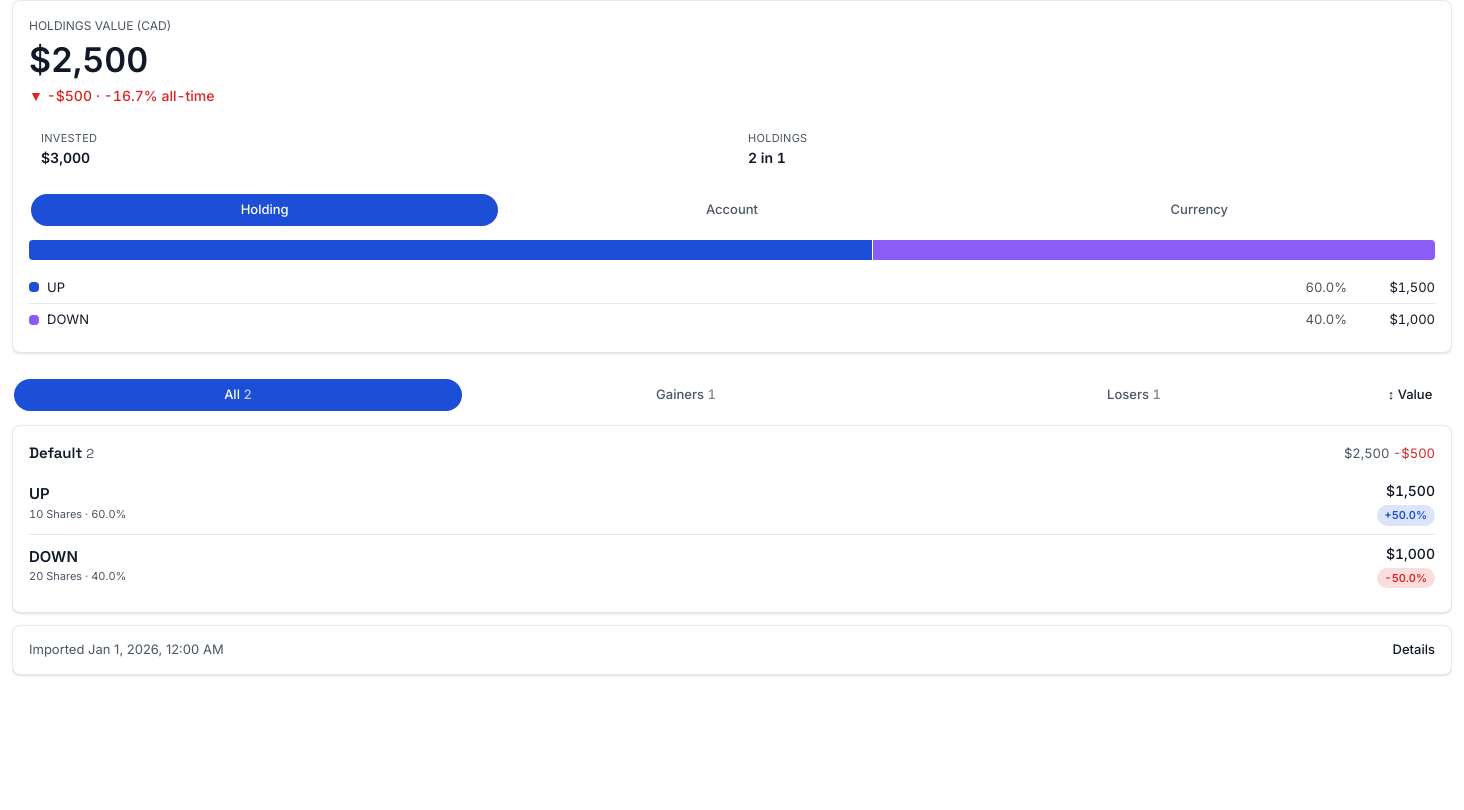
Test: phone Portfolio › expands a row to show price, average cost and book
The image size is (1464, 810).
Click the button with aria-label "Details for UP": (64,514) left=29, top=472, right=1435, bottom=534
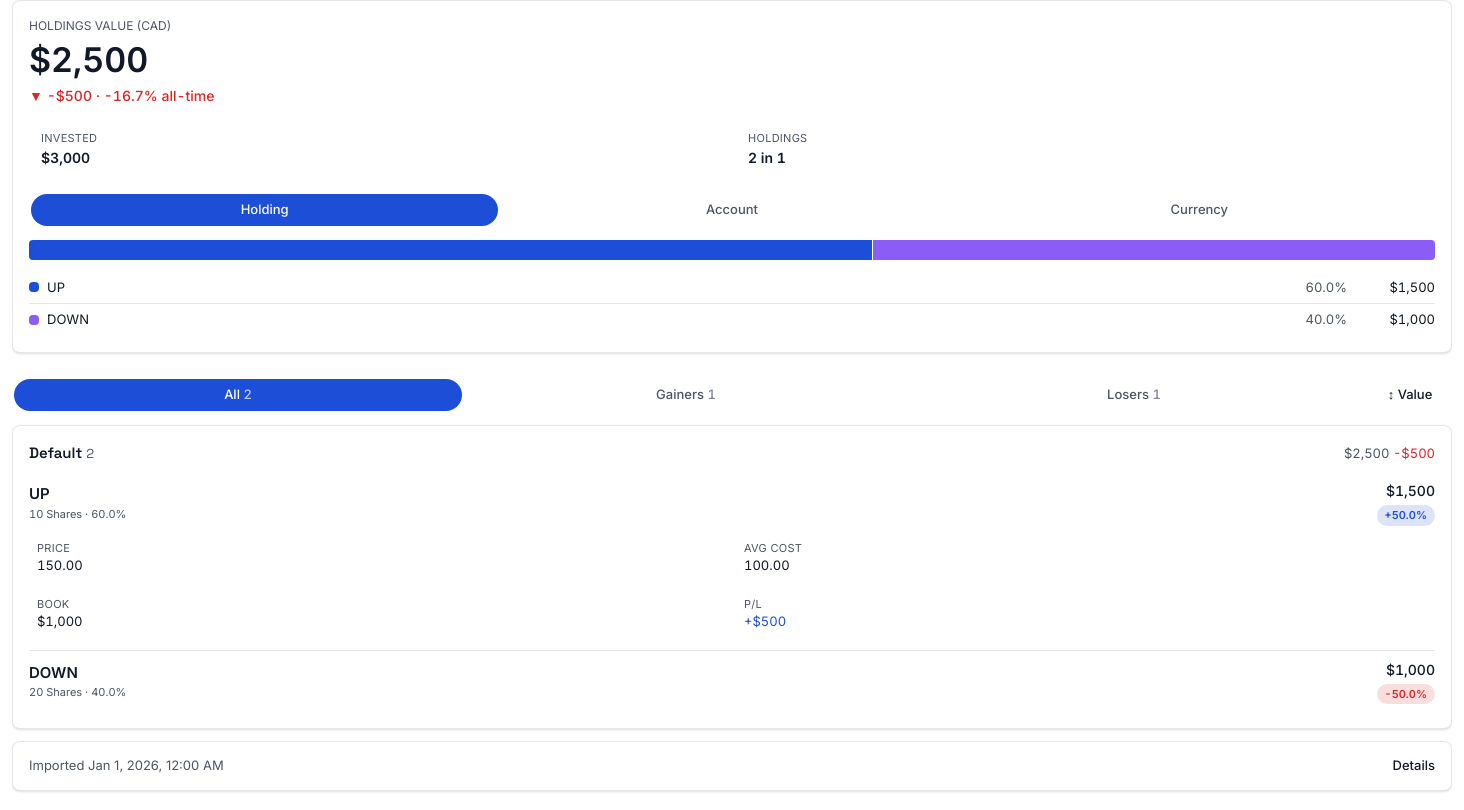
Result: the text "Avg cost" is shown at left=744, top=540, right=802, bottom=554
